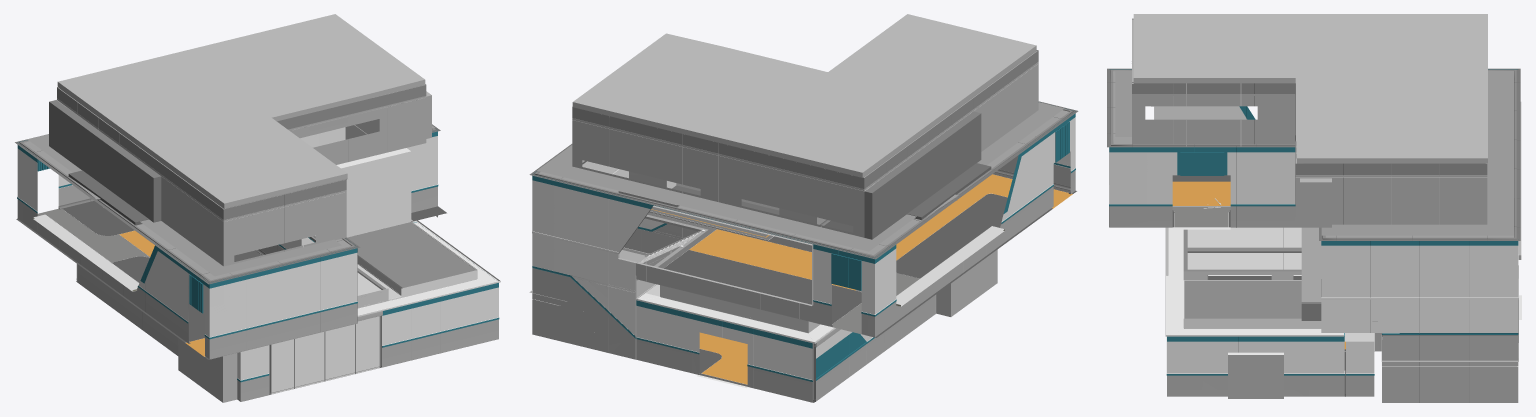
The picture shows the model from 3 angles, left to right: view 1: azimuth 30°, elevation 25°; view 2: azimuth 150°, elevation 25°; view 3: azimuth 270°, elevation 25°; orthographic projection. The views are drawn at different scales.
Visible parts, largest first — view 1: SM_H_Building_FutureTech_Dock_06_InterWall; view 2: SM_H_Building_FutureTech_Dock_06_InterWall; view 3: SM_H_Building_FutureTech_Dock_06_InterWall.
Part boxes in pixels (left/top/right/bottom): SM_H_Building_FutureTech_Dock_06_InterWall: left=15, top=14, right=500, bottom=402; SM_H_Building_FutureTech_Dock_06_InterWall: left=529, top=14, right=1078, bottom=402; SM_H_Building_FutureTech_Dock_06_InterWall: left=1107, top=14, right=1521, bottom=402.
Bounding box in the file's own units: 818 × 812 × 505.
